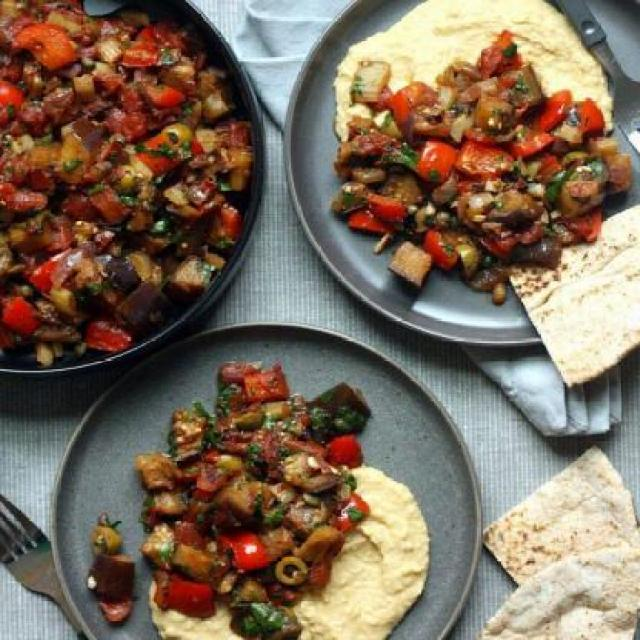eggplant: (337, 42, 632, 304), (148, 355, 375, 639)
hummus: (124, 464, 433, 639), (325, 3, 609, 137)
